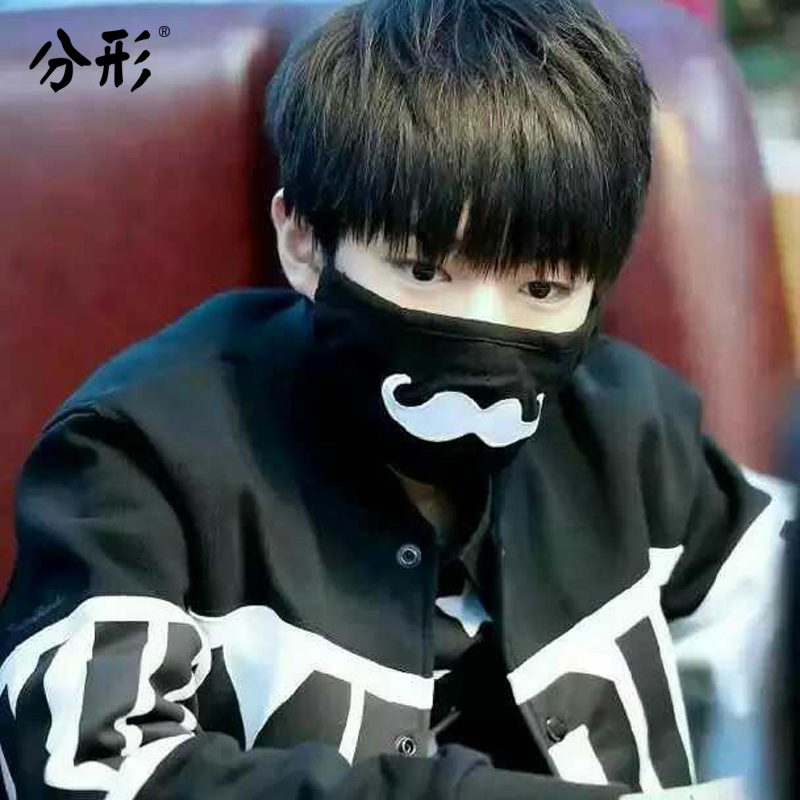face_mask: (355, 166, 599, 451)
